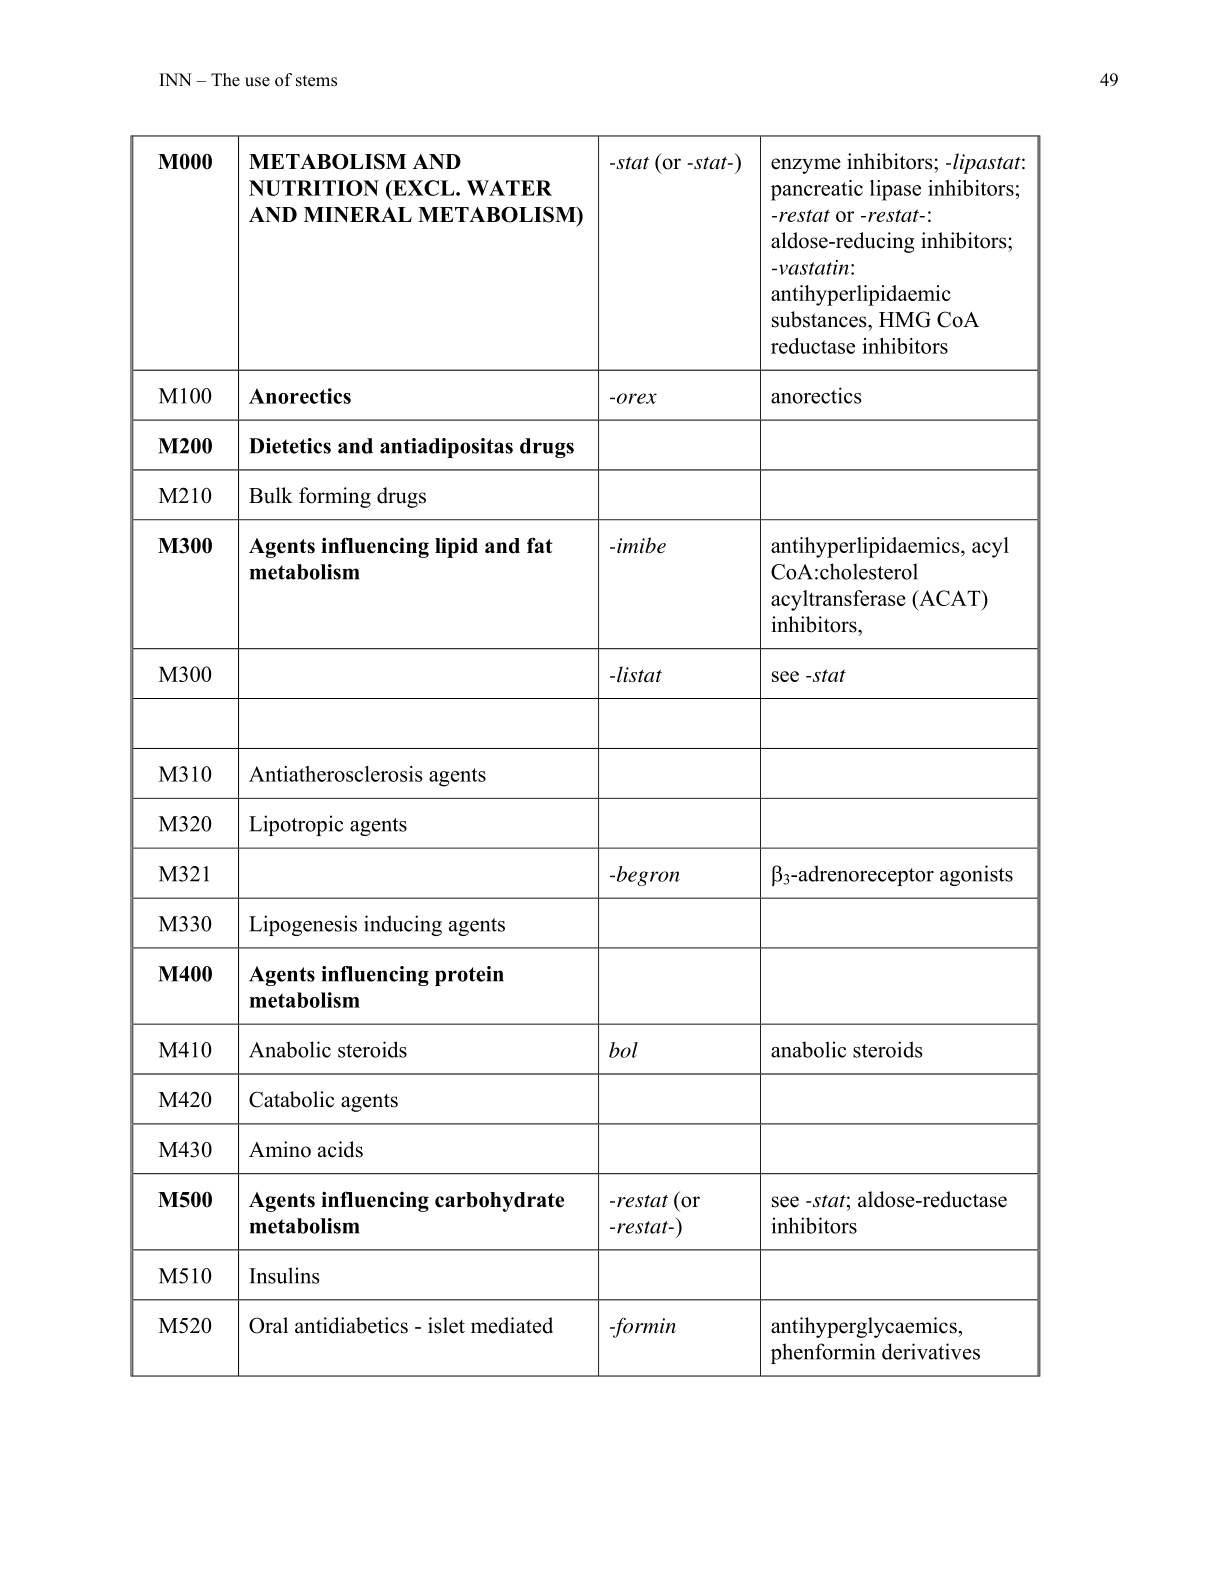full_lined: (130, 135, 1041, 1378)
